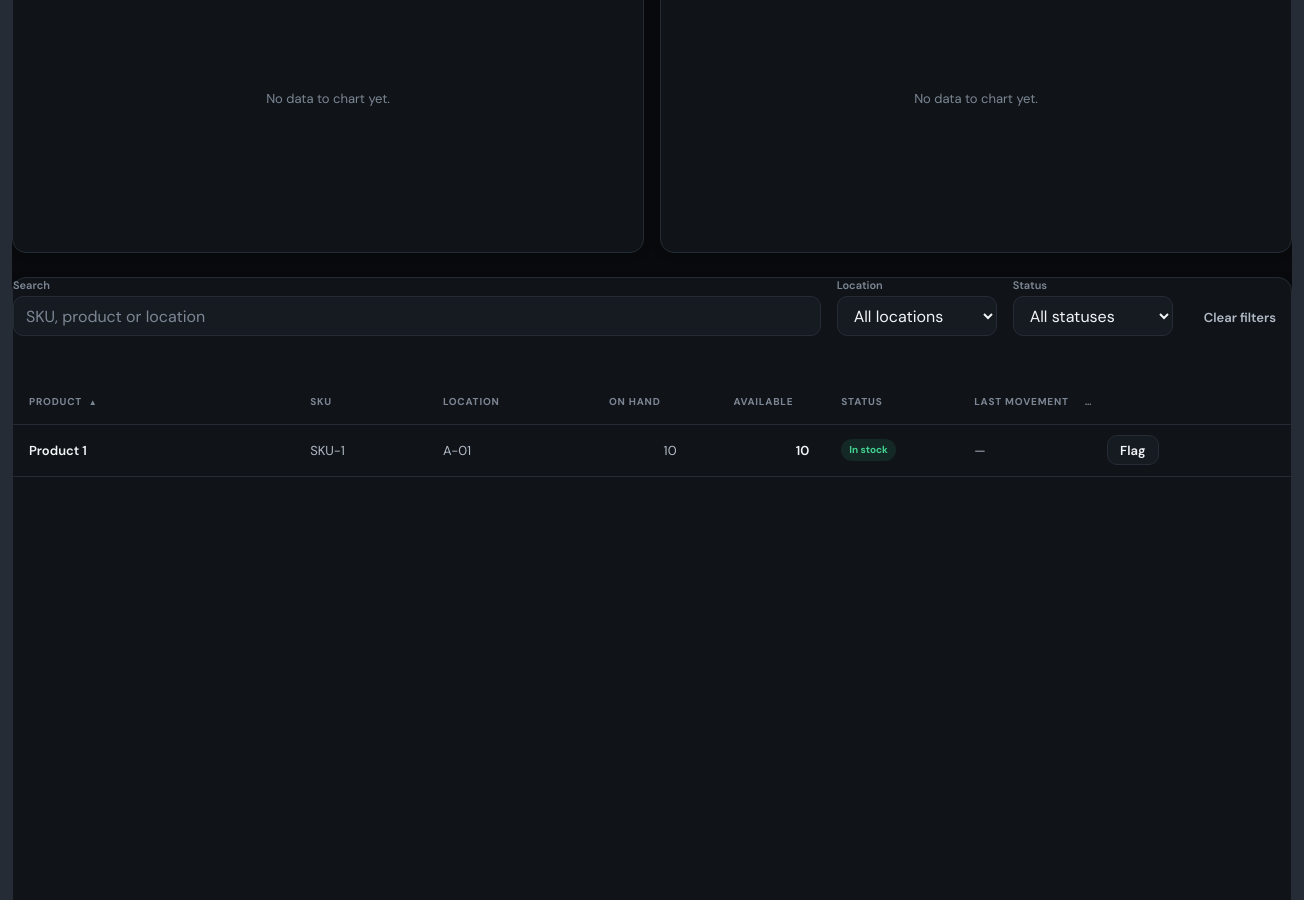
Scenario: InventoryOverviewPage › reverts the flag and says so when the server rejects it
The image size is (1304, 900).
(page scrolled)
Expected: the text "Product 1" is shown, [29, 442, 87, 459]
Step 1. Click the button with aria-label "Flag SKU-1 at A-01 for cycle count" → (1133, 450), box [1107, 435, 1158, 465]
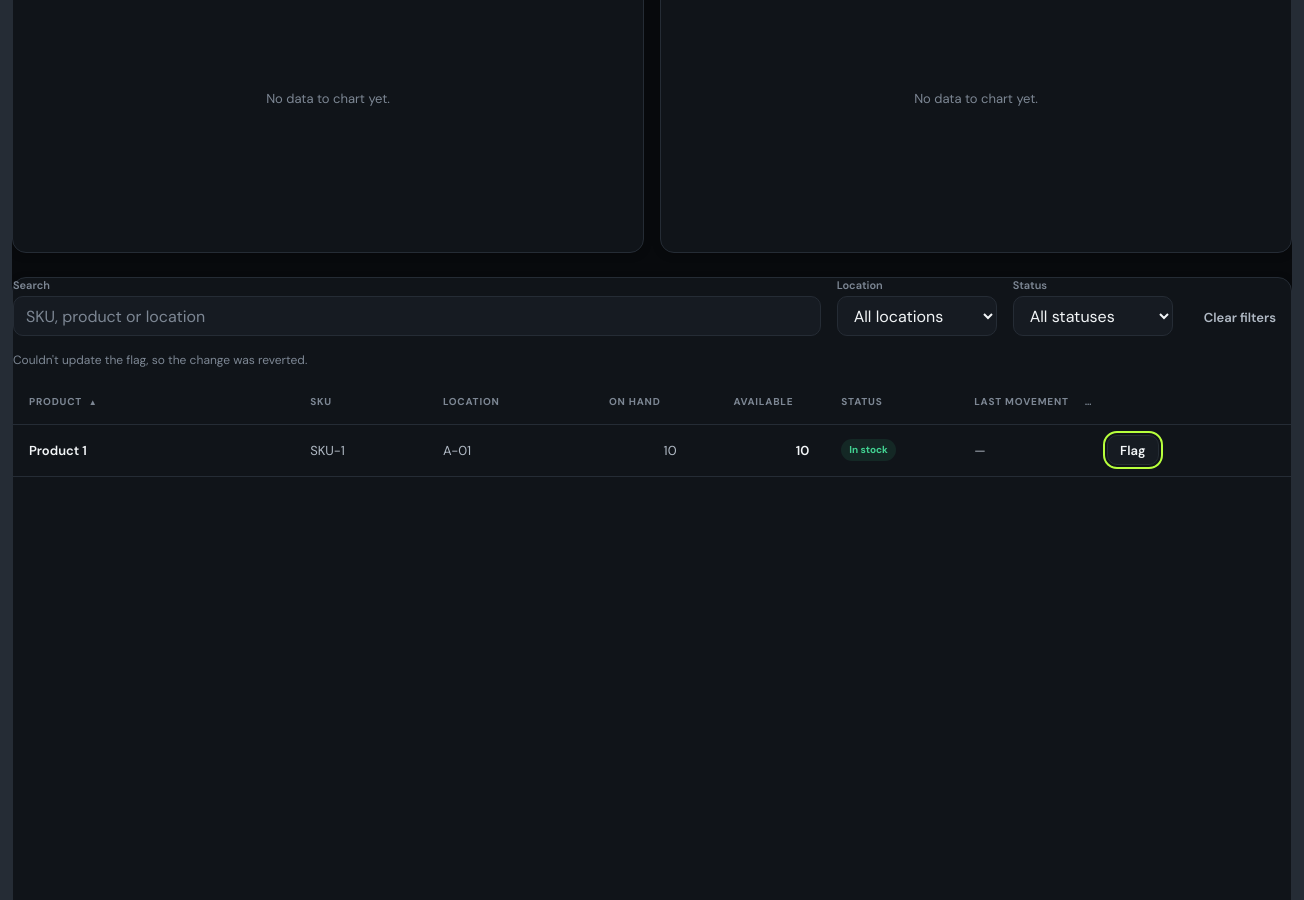
Result: the text "Couldn't update the flag, so the change was reverted." is shown at [13, 352, 307, 368]
